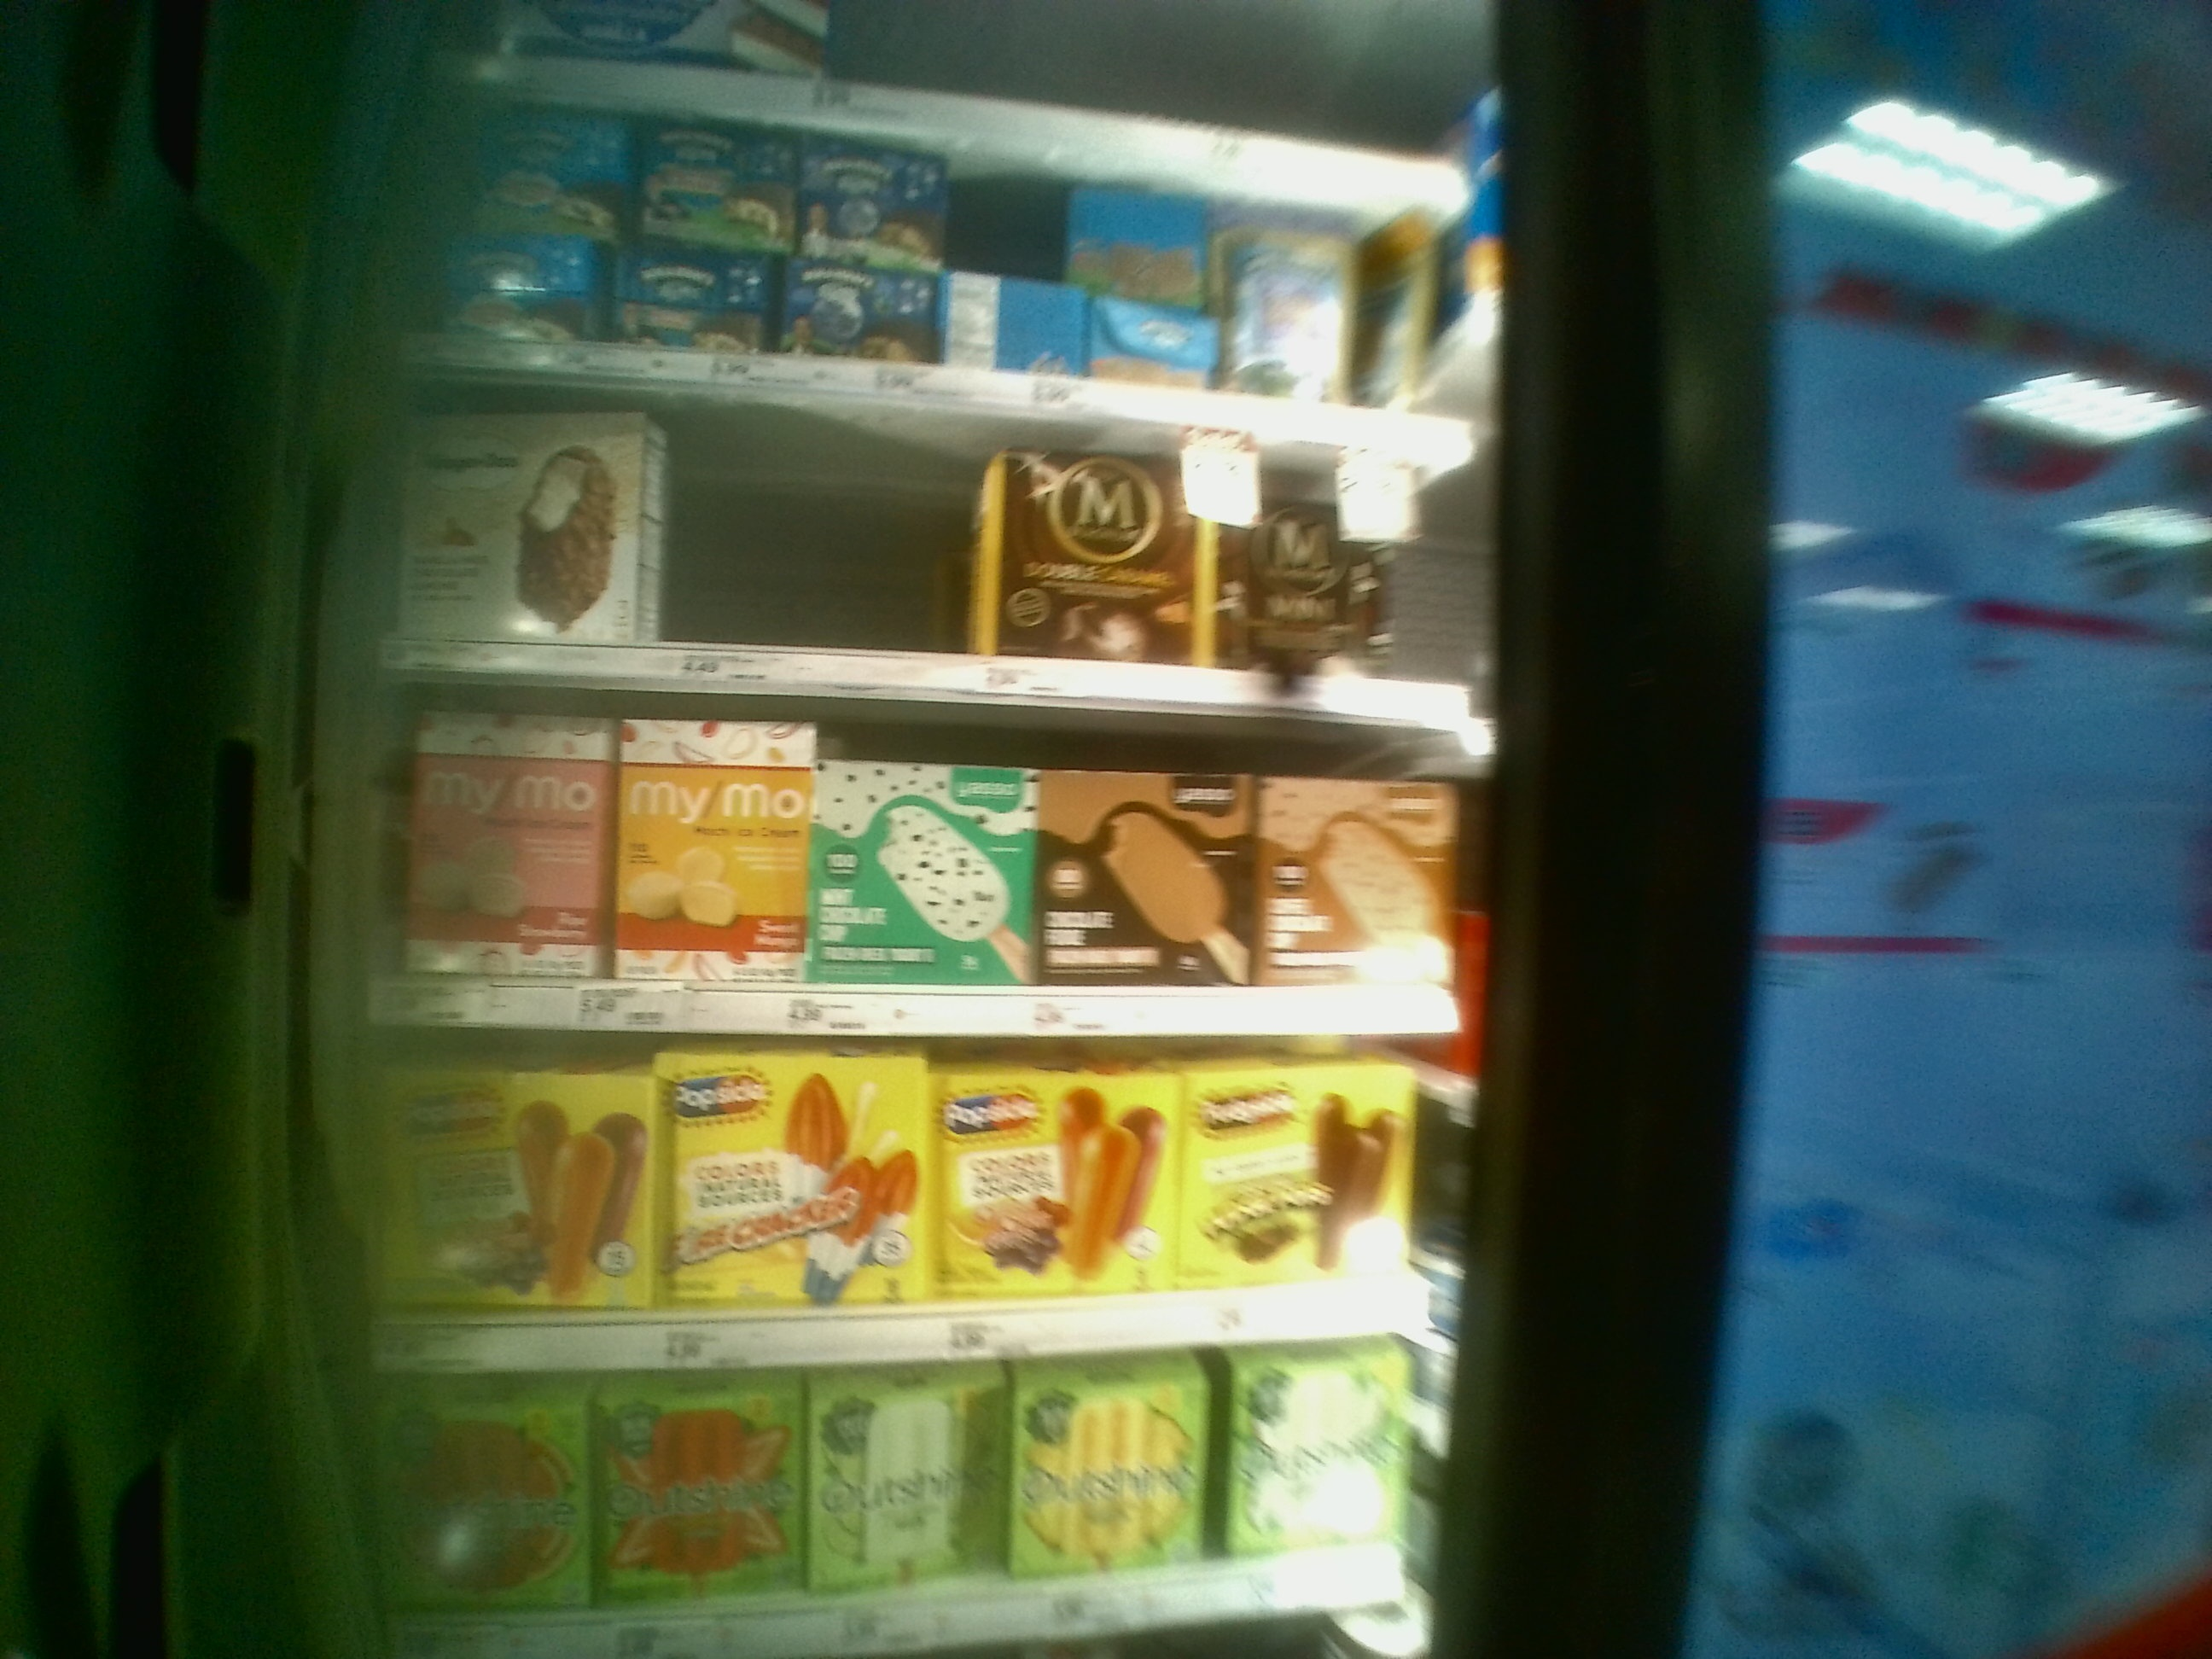ice-cream-shelf: (366, 687, 1474, 1033), (355, 1035, 1465, 1354)
